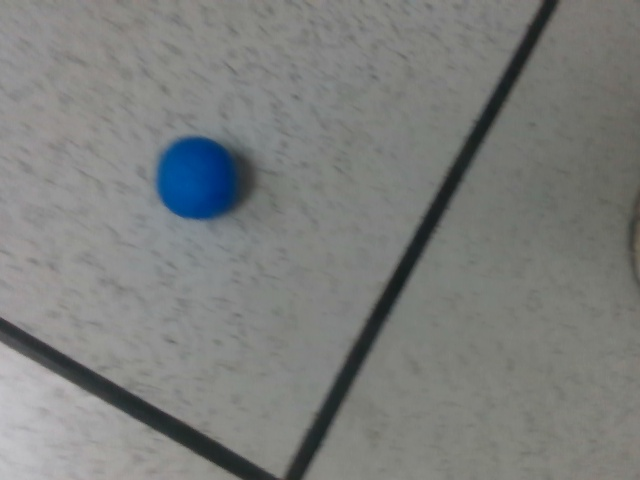blueball: (153, 135, 239, 219)
